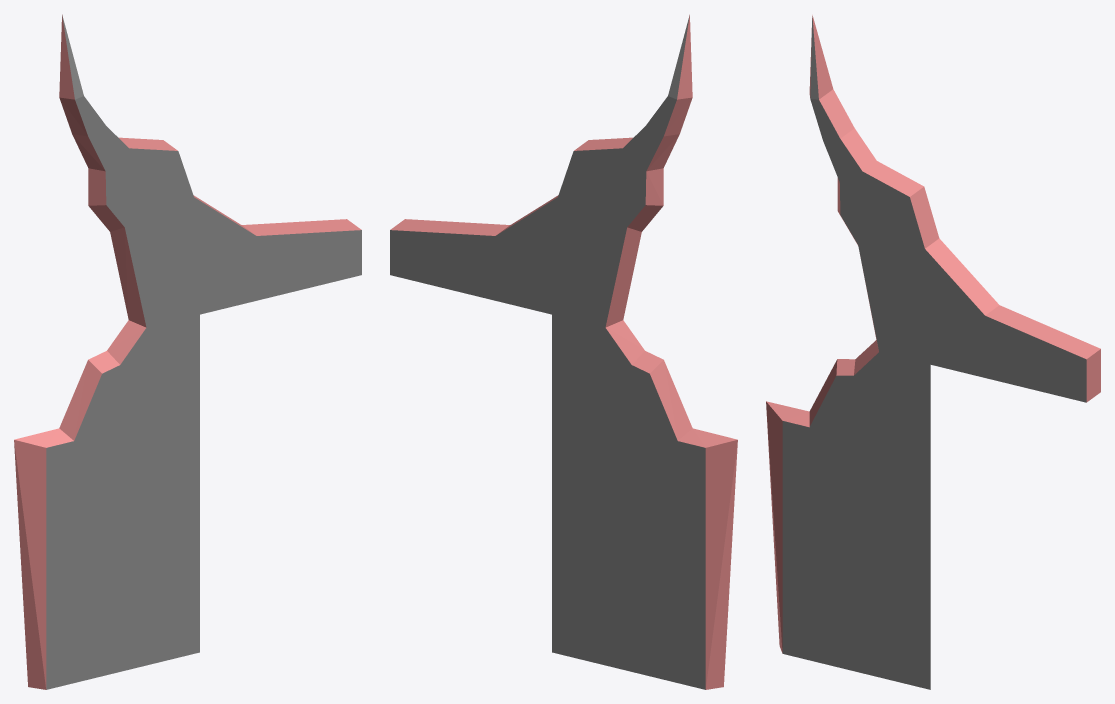
Rendered from sylentemple_deco10.gltf.
3 views of the same model, side by side, from view 1: azimuth 30°, elevation 25°; view 2: azimuth 150°, elevation 25°; view 3: azimuth 330°, elevation 25° (orthographic). The views are drawn at different scales.
Parts seen in each view (by area): view 1: sylentemple_deco10; view 2: sylentemple_deco10; view 3: sylentemple_deco10.
Part boxes in pixels (<box>): sylentemple_deco10: <box>14,14,361,689</box>; sylentemple_deco10: <box>390,14,737,689</box>; sylentemple_deco10: <box>766,15,1100,689</box>.
Size of the model in its own units: 5.71 by 10.66 by 0.4355.
